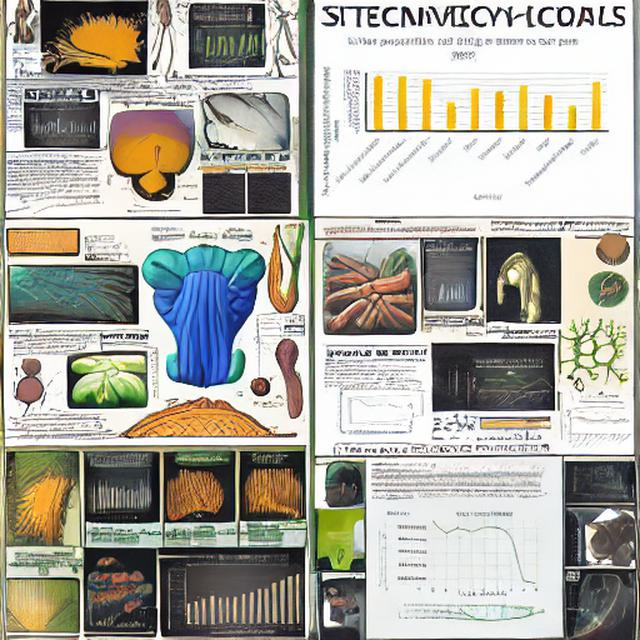Graph: (315, 32, 615, 204), (417, 501, 548, 599), (165, 561, 305, 637), (465, 359, 555, 411), (191, 23, 265, 68), (559, 408, 633, 450), (28, 104, 100, 147), (344, 394, 401, 428)
